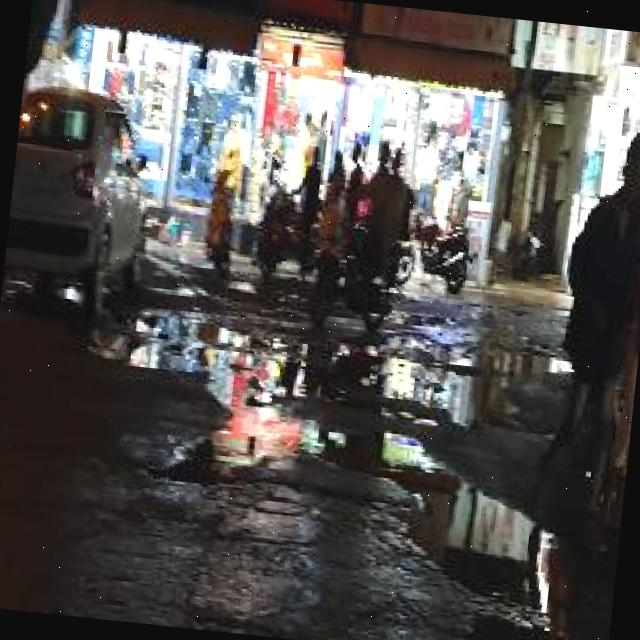stagnation: (41, 277, 530, 529)
